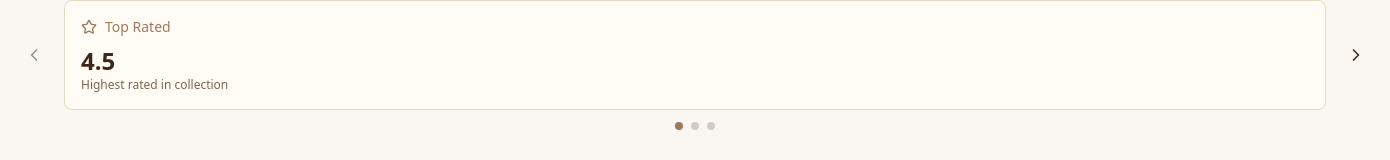
Test: StatsCarousel › goes to the previous slide when the left arrow is clicked
Click the button named "next" at [1356, 55], box [1334, 37, 1378, 73]
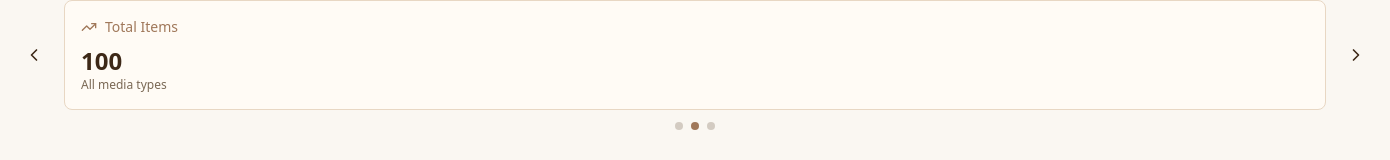
Click the button named "previous" at [34, 55], box [12, 37, 56, 73]
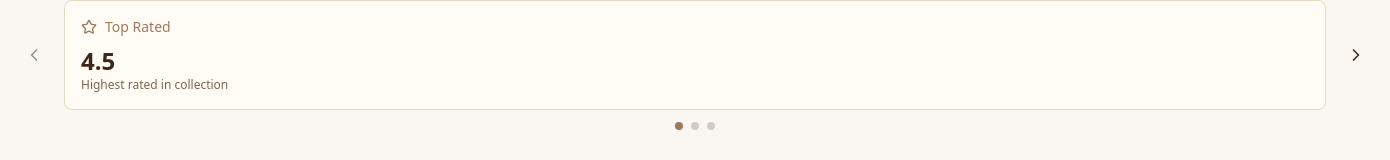
Expected: the element showing "Top Rated 4.5 Highest rated in collection" is shown, [81, 17, 228, 93]
